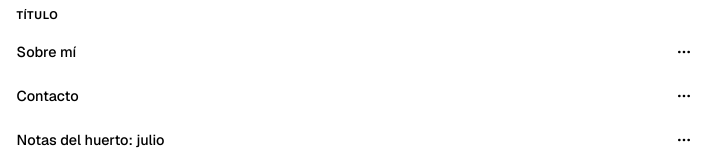
RecordTable.svelte — menú de acciones de fila (lámina 7) › Escape cierra el menú y devuelve el foco al disparador de la fila
This screenshot has width=715, height=165.
Click the button named "Acciones de «Sobre mí»" at (684, 52), box [670,38,698,66]
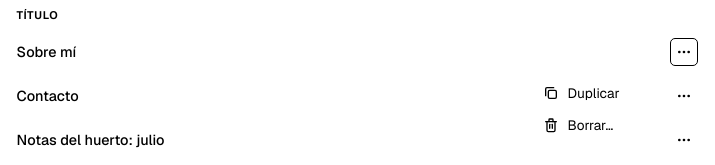
Press Escape in the menu item "Duplicar", box [533,77,693,109]
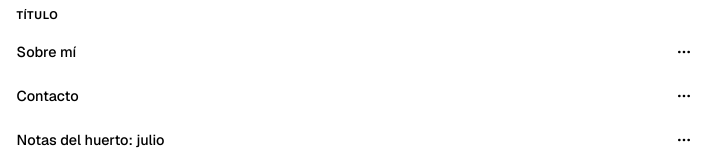
expect the menu is gone: met
